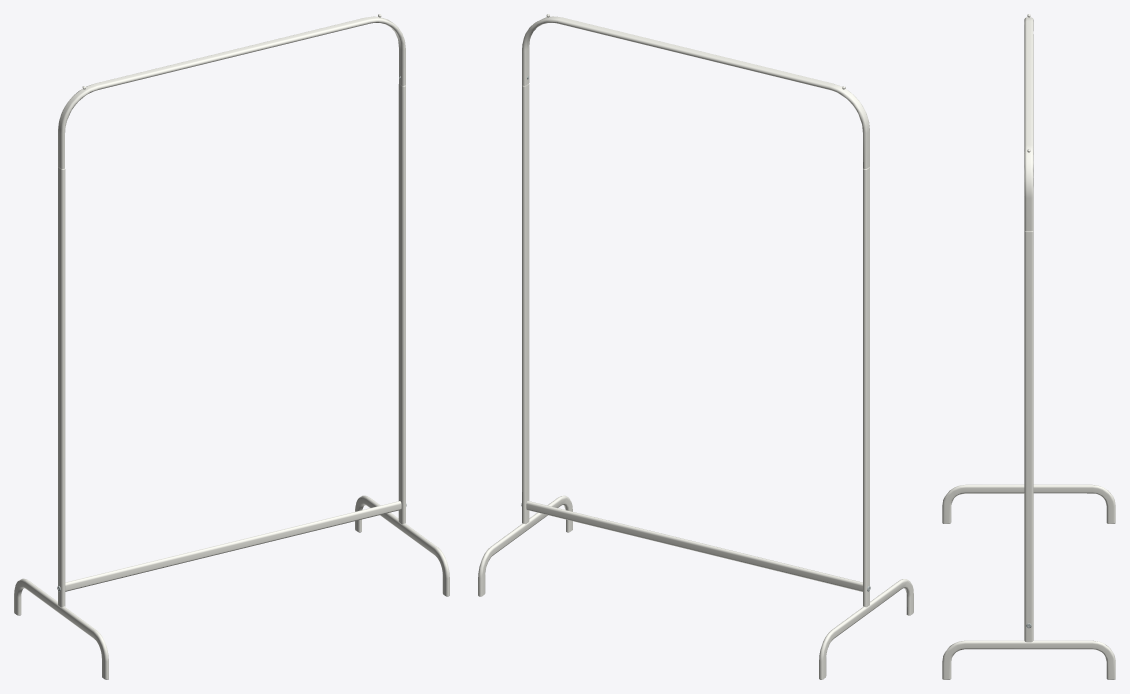
The model's file is mulig_wieszak_na_ubrania_60179434.glb.
3 renders of one model, left to right at view 1: azimuth 30°, elevation 25°; view 2: azimuth 150°, elevation 25°; view 3: azimuth 270°, elevation 25°, orthographic. The views are drawn at different scales.
Parts seen in each view (by area): view 1: mulig_wieszak_na_ubrania_60179434; view 2: mulig_wieszak_na_ubrania_60179434; view 3: mulig_wieszak_na_ubrania_60179434.
Boxes of the visible parts, x1,y1,x2,y2 form: mulig_wieszak_na_ubrania_60179434: (14,14,449,679); mulig_wieszak_na_ubrania_60179434: (478,14,913,679); mulig_wieszak_na_ubrania_60179434: (942,14,1115,679).
Size of the model in its own units: 0.995 by 1.52 by 0.4601.
1 material, 1 textured.
